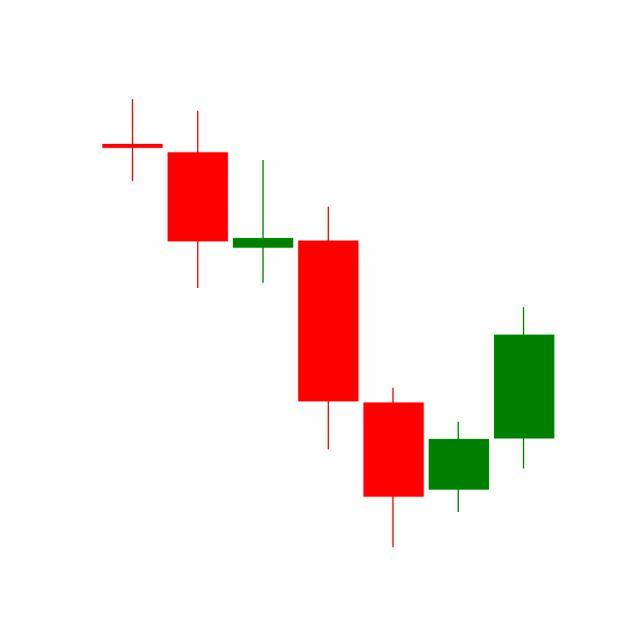Three Inside Up-Down: (360, 304, 556, 549)
